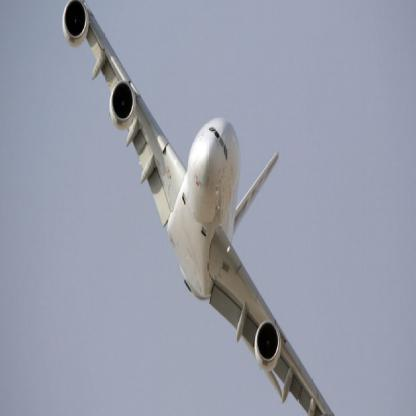CIV_Plane: (55, 0, 338, 411)
